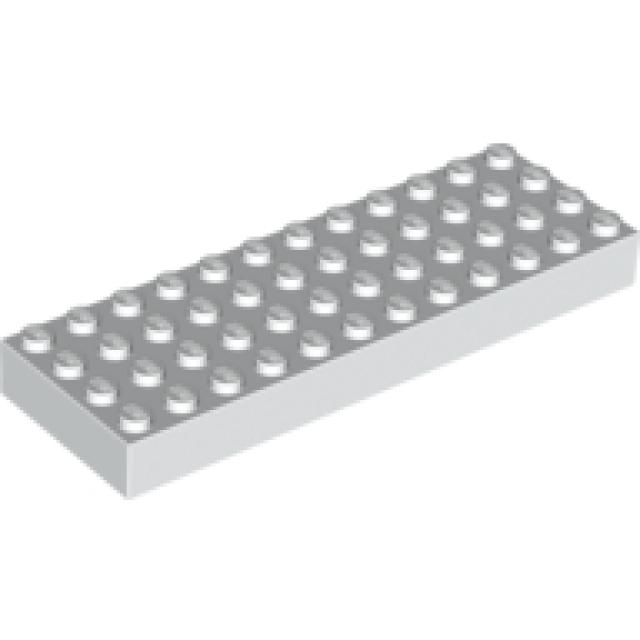White_Large: (3, 143, 637, 503)
